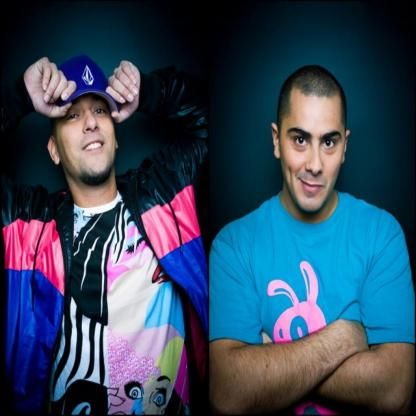face: (282, 95, 344, 211), (60, 71, 115, 175)
